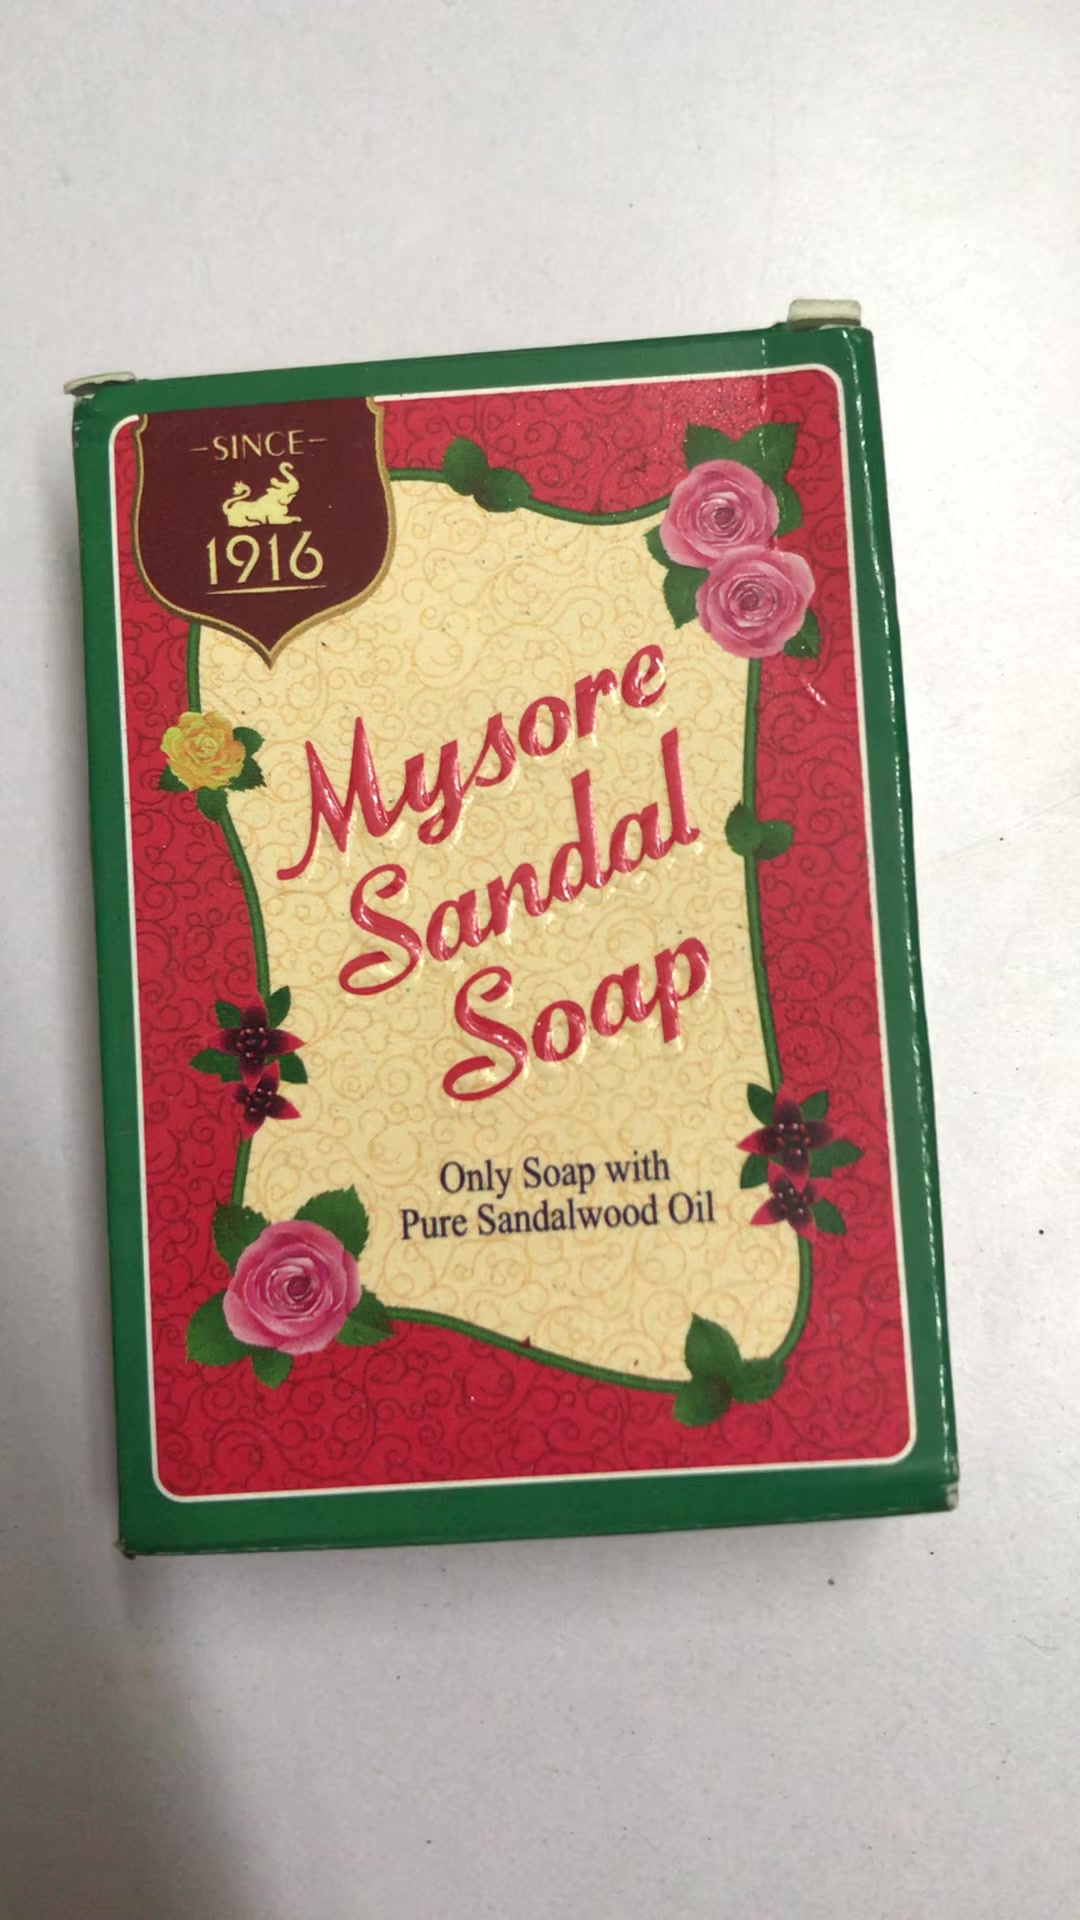mysore sandal soap: (70, 320, 959, 1548)
